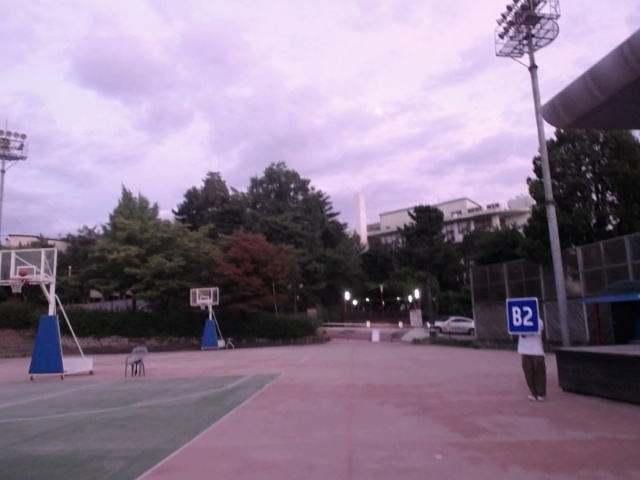delivery_b2: (505, 298, 541, 334)
